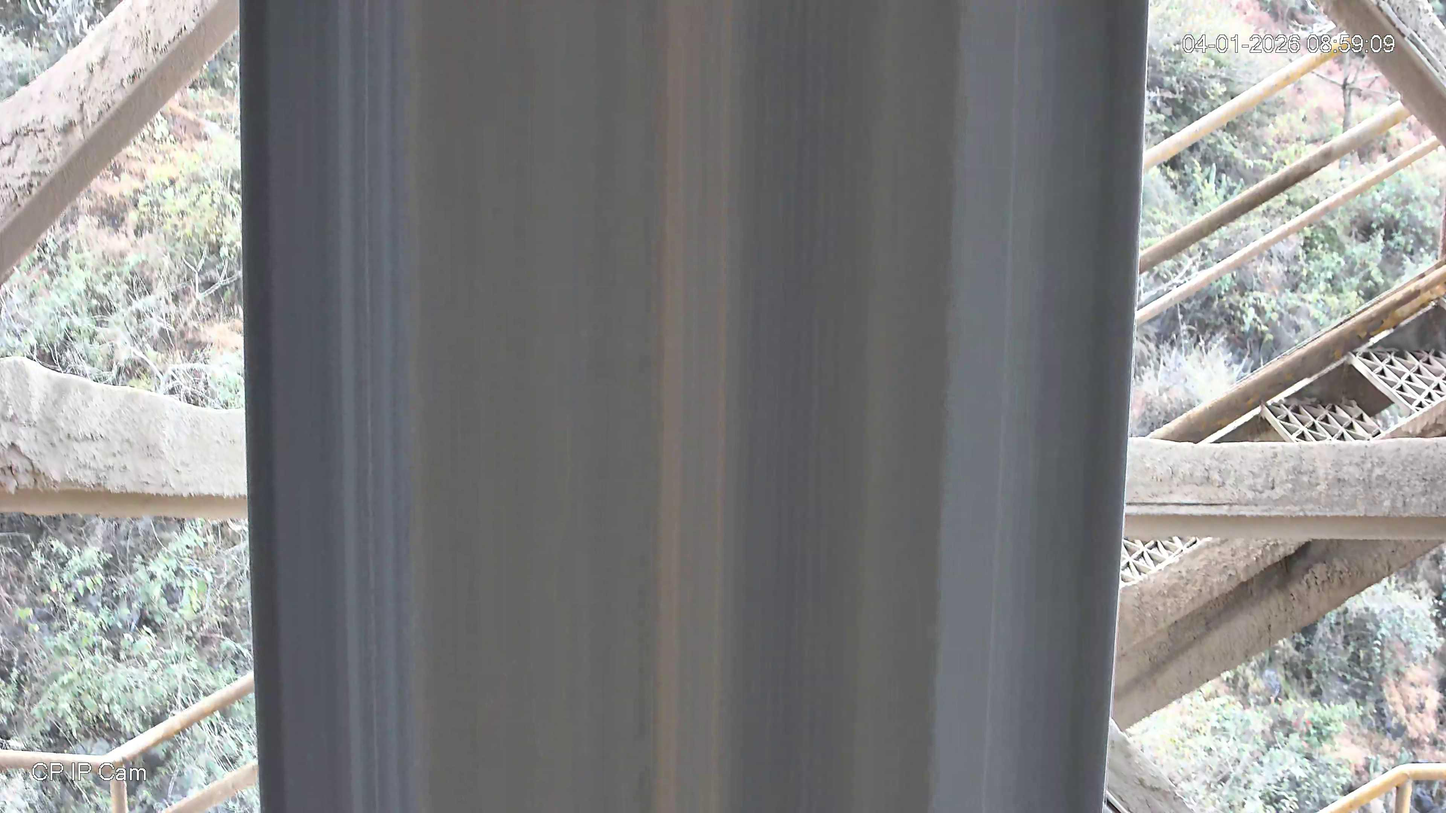belt_roi: (237, 0, 1152, 813)
